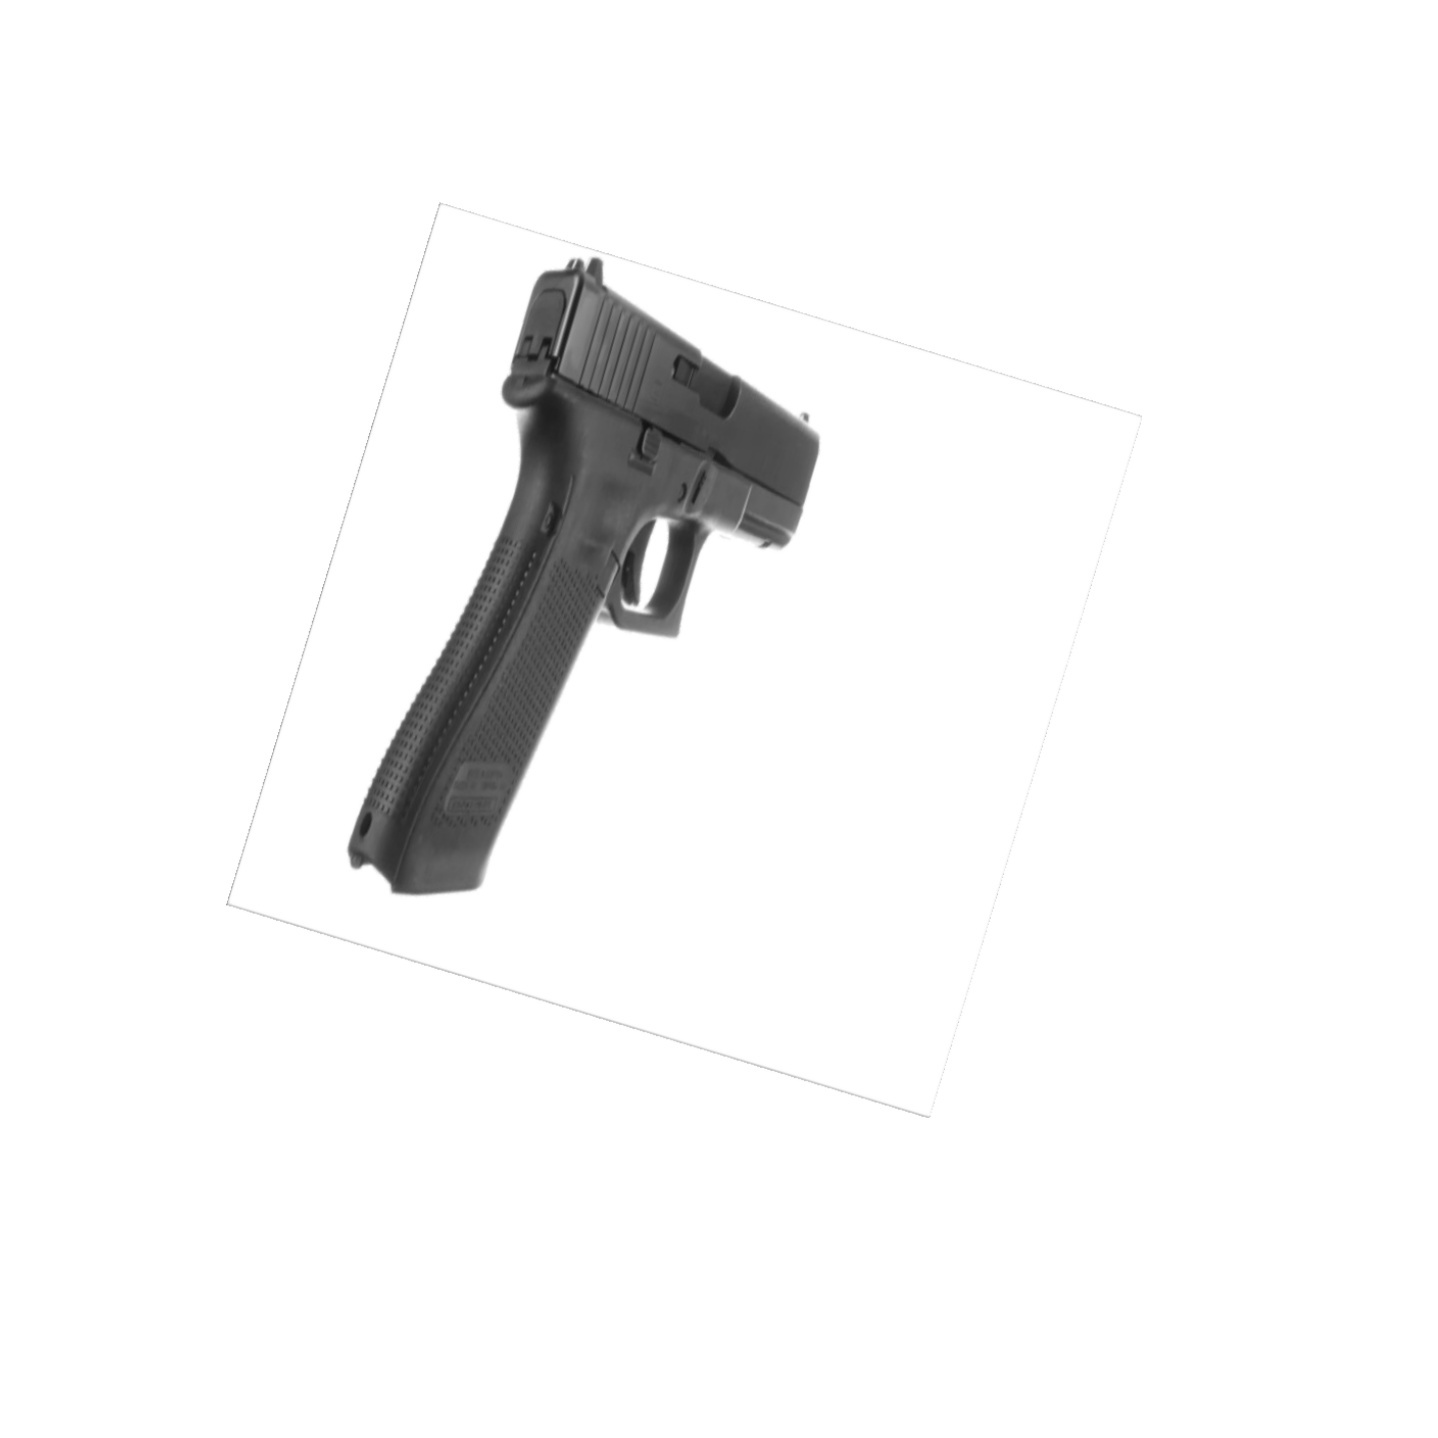gun: (337, 252, 826, 903)
